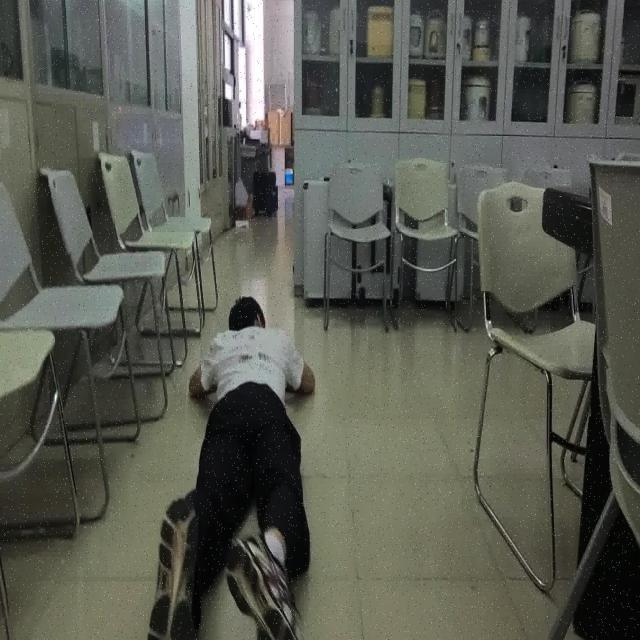fall: (144, 296, 320, 640)
